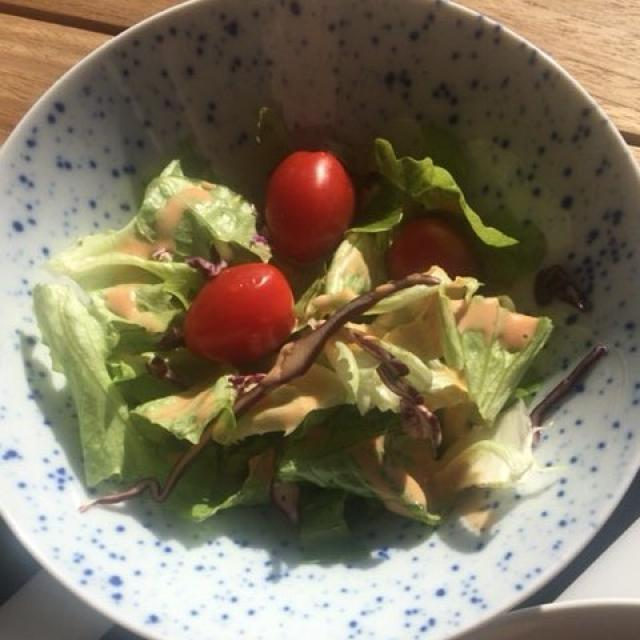cabbage: (170, 268, 615, 545)
salad: (33, 110, 561, 548)
tomato: (194, 150, 458, 362)
